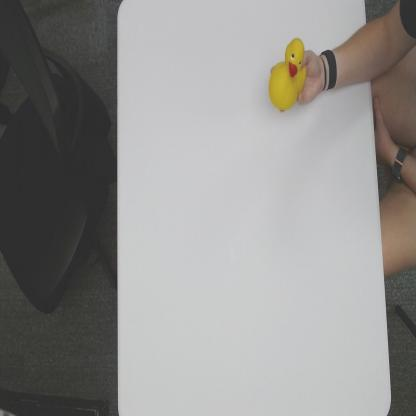Arm: (338, 24, 371, 90)
Duck: (268, 38, 308, 112)
Hand: (297, 48, 325, 104)
